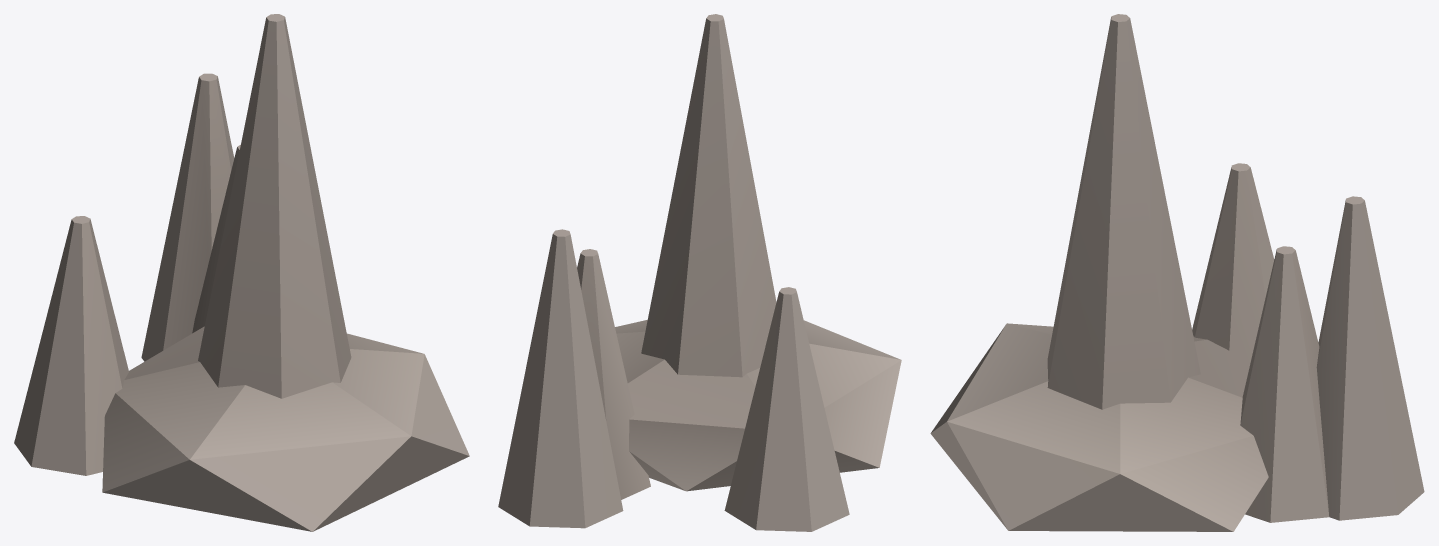
File: VCaveStalag_A.fbx
3 views of the same model, side by side, from view 1: azimuth 30°, elevation 25°; view 2: azimuth 150°, elevation 25°; view 3: azimuth 270°, elevation 25° (orthographic). The views are drawn at different scales.
Parts seen in each view (by area): view 1: VCaveStalag_A; view 2: VCaveStalag_A; view 3: VCaveStalag_A.
Part boxes in pixels (left/top/right/bottom): VCaveStalag_A: left=14, top=14, right=469, bottom=531; VCaveStalag_A: left=498, top=14, right=901, bottom=531; VCaveStalag_A: left=930, top=14, right=1424, bottom=531.
Size of the model in its own units: 0.8143 by 1 by 0.9944.
